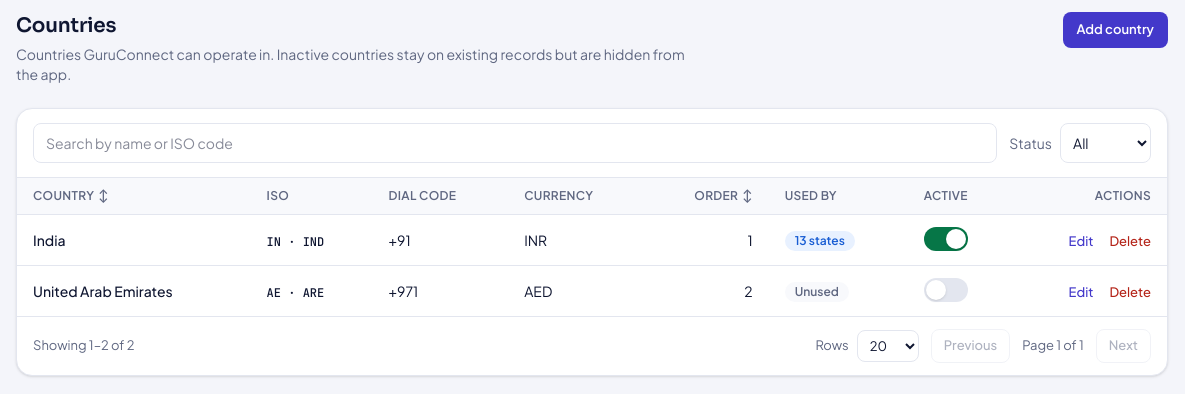
MasterListPage — states › says nothing matches when a filter returns no rows
Expected: the text "India" is shown, x1=33 y1=231 x2=66 y2=249
Select "Inactive" in the dropdown labelled "Status" at x=1106, y=143, box x1=1060 y1=123 x2=1151 y2=163
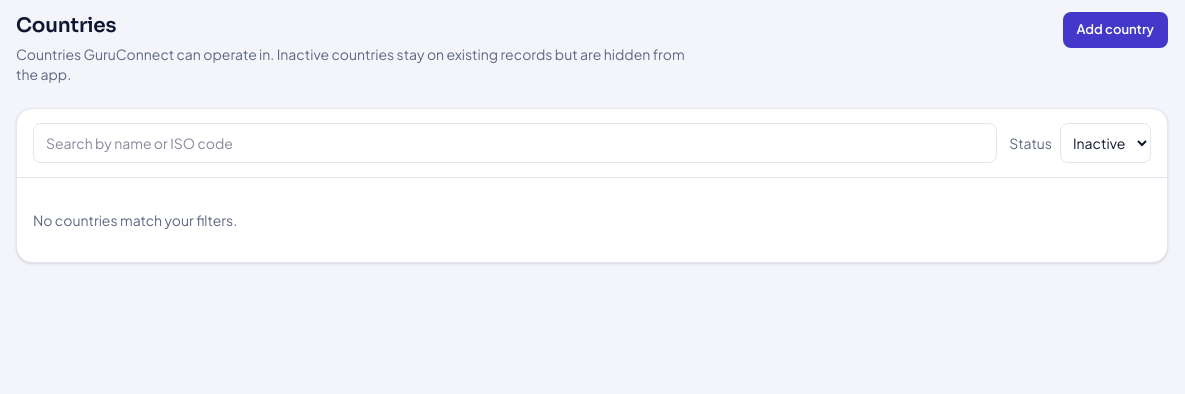
Expected: the text "No countries match your filters." is shown, x1=33 y1=211 x2=237 y2=229
